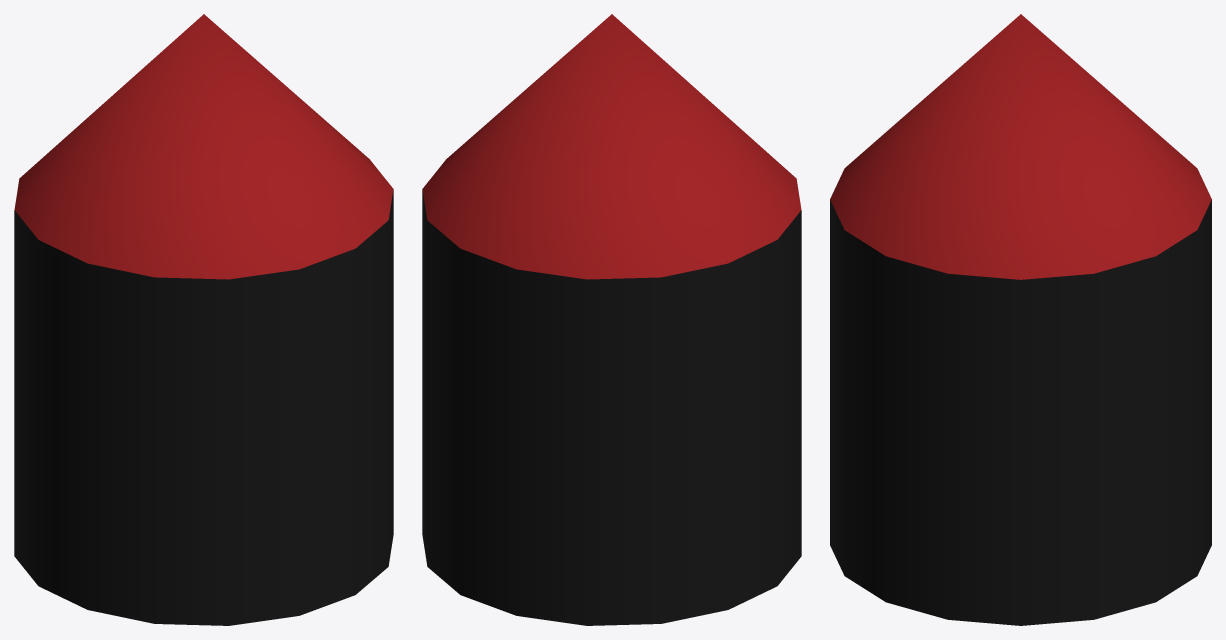
The model's file is ArtilleryShell.fbx.
3 renders of one model, left to right at view 1: azimuth 30°, elevation 25°; view 2: azimuth 150°, elevation 25°; view 3: azimuth 270°, elevation 25°, orthographic.
Parts seen in each view (by area): view 1: Cylinder; view 2: Cylinder; view 3: Cylinder.
Part boxes in pixels (x1,y1,x2,y2): Cylinder: (14,14,393,625); Cylinder: (422,14,801,625); Cylinder: (830,14,1211,625).
Bounding box in the file's own units: 0.5396 × 0.8284 × 0.5396.
